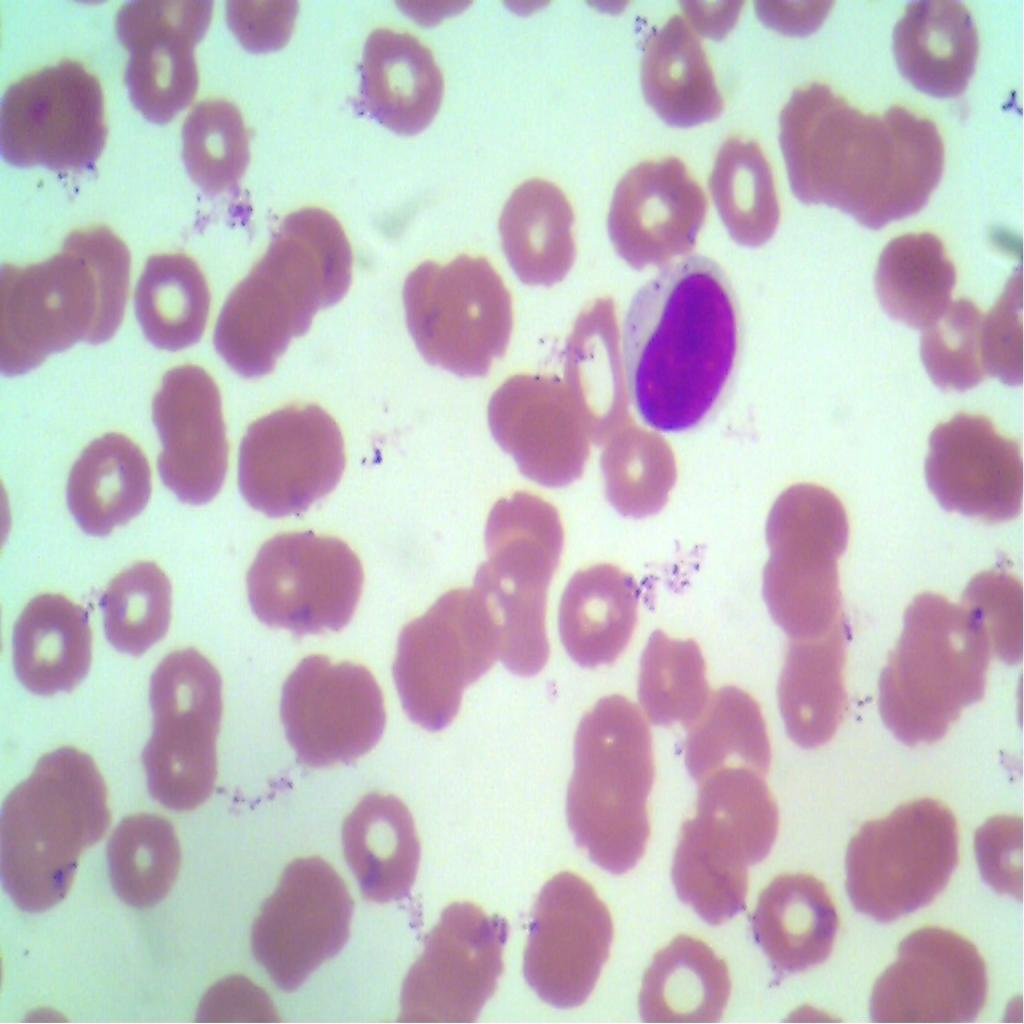Eritrosit: (516, 877, 623, 1023), (394, 234, 499, 378), (771, 618, 871, 762), (256, 850, 358, 989), (281, 645, 384, 782), (246, 524, 366, 634), (55, 415, 156, 545), (746, 861, 852, 984), (469, 532, 556, 678), (632, 17, 738, 136), (346, 23, 448, 142), (148, 362, 229, 511), (488, 367, 581, 494), (10, 591, 106, 714), (893, 914, 999, 1023), (606, 145, 698, 269), (493, 170, 581, 298), (556, 299, 630, 451), (241, 408, 339, 522), (0, 777, 86, 905), (759, 538, 856, 648), (704, 120, 783, 254), (878, 0, 983, 100), (14, 740, 111, 848), (336, 781, 423, 901), (929, 414, 1023, 525), (128, 238, 215, 357), (26, 56, 118, 168), (635, 920, 734, 1023), (553, 548, 636, 669), (875, 228, 966, 337), (864, 91, 946, 211), (61, 222, 141, 343), (11, 257, 96, 370), (96, 559, 186, 663), (102, 804, 188, 911), (690, 764, 782, 864), (842, 797, 912, 925), (564, 774, 650, 878), (135, 710, 226, 808), (769, 468, 851, 575), (269, 208, 355, 308), (382, 611, 458, 724), (422, 901, 502, 1008), (686, 684, 772, 782), (574, 698, 655, 801), (603, 418, 679, 527), (898, 589, 978, 692), (210, 288, 292, 388), (884, 790, 962, 894), (951, 566, 1023, 678), (118, 26, 208, 115), (148, 647, 226, 749), (248, 252, 334, 344), (912, 291, 986, 394), (178, 98, 252, 199), (668, 823, 750, 912), (486, 485, 556, 586), (786, 77, 843, 197), (882, 654, 946, 760), (638, 621, 706, 717), (426, 588, 496, 678), (824, 112, 884, 215)
Limfosit: (619, 244, 743, 441)
